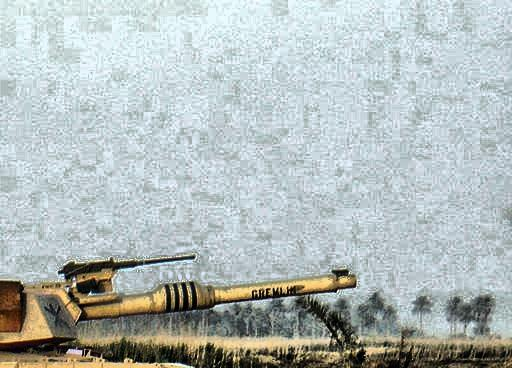tanks: (1, 259, 357, 368)
